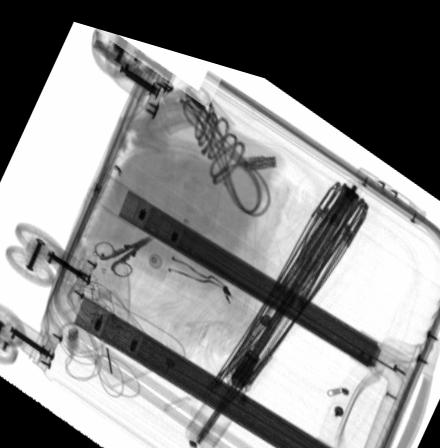Scissors: (93, 224, 155, 270)
